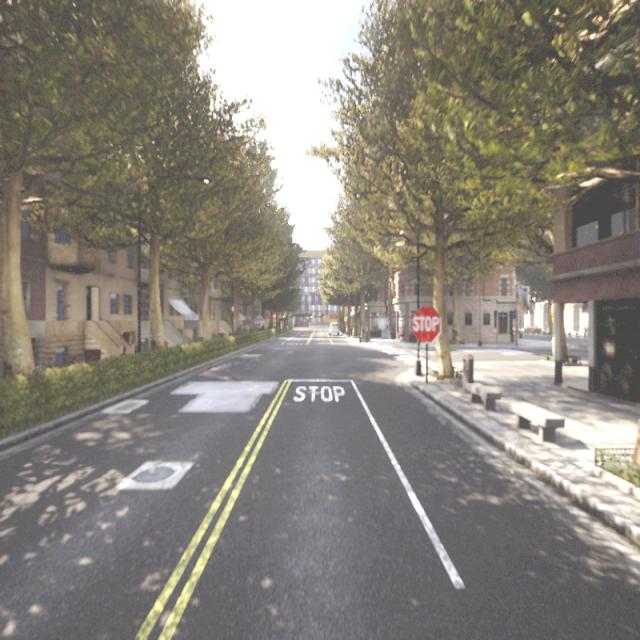stop sign: (410, 303, 442, 344), (412, 315, 440, 334)
